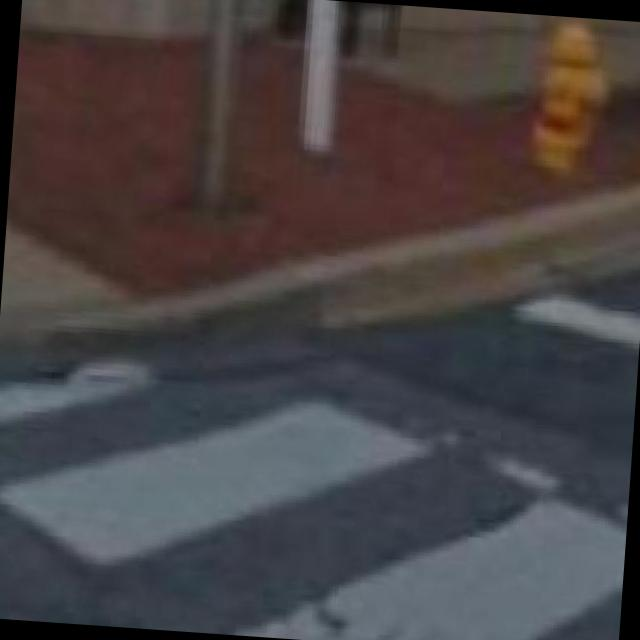zebra: (0, 338, 628, 640)
